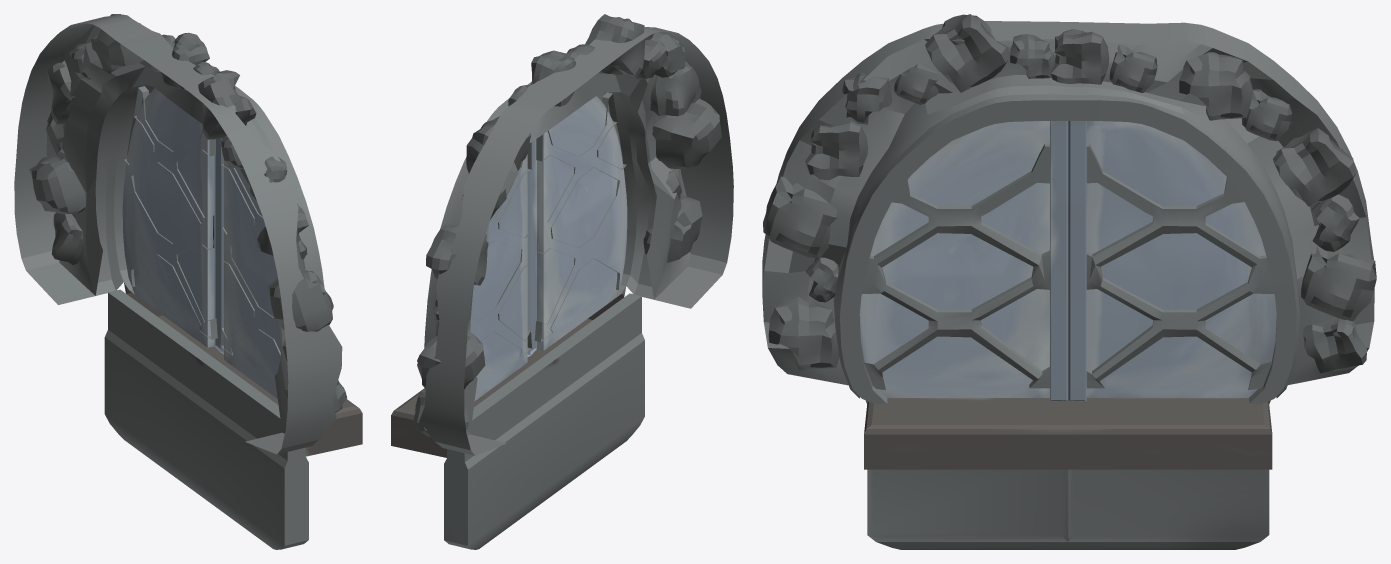
Rendered from window.fbx.
3 views of the same model, side by side, from view 1: azimuth 30°, elevation 25°; view 2: azimuth 150°, elevation 25°; view 3: azimuth 270°, elevation 25° (orthographic). The views are drawn at different scales.
Visible parts, largest first — view 1: window; view 2: window; view 3: window.
Part boxes in pixels (x1,y1,x2,y2): window: (14, 14, 362, 549); window: (391, 14, 733, 549); window: (762, 14, 1376, 549).
Size of the model in its own units: 0.5402 by 1.98 by 2.14.
